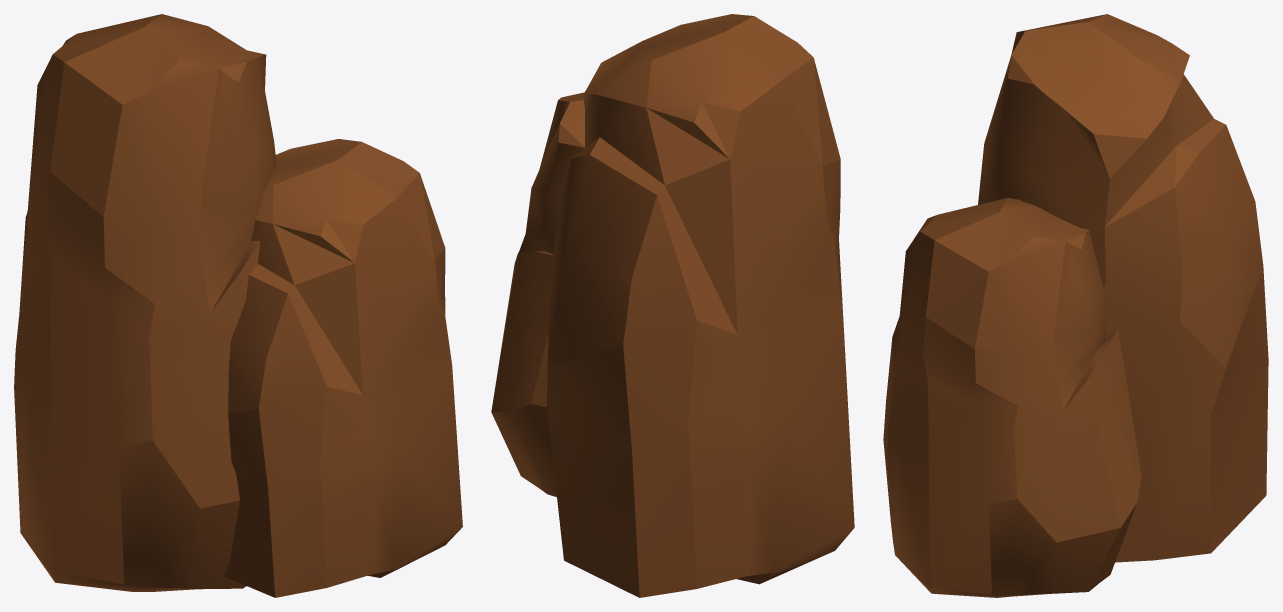
The model's file is Rock_Large_3_Cube.obj.
The picture shows the model from 3 angles, left to right: view 1: azimuth 30°, elevation 25°; view 2: azimuth 150°, elevation 25°; view 3: azimuth 270°, elevation 25°; orthographic projection. The views are drawn at different scales.
Parts seen in each view (by area): view 1: Rock_Large_3_Cube.006; view 2: Rock_Large_3_Cube.006; view 3: Rock_Large_3_Cube.006.
Boxes of the visible parts, box(x1,y1,x2,y2) form: Rock_Large_3_Cube.006: box(14, 14, 462, 597); Rock_Large_3_Cube.006: box(491, 14, 854, 597); Rock_Large_3_Cube.006: box(883, 14, 1268, 597).
Size of the model in its own units: 5.31 by 7.43 by 5.19.
